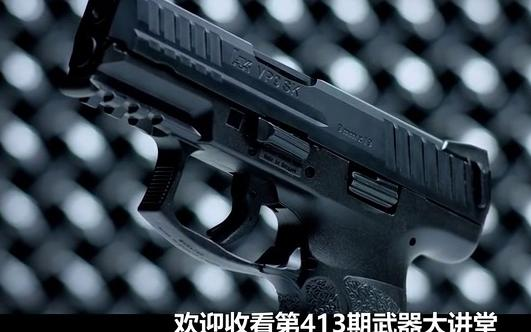gun: (1, 0, 531, 332)
